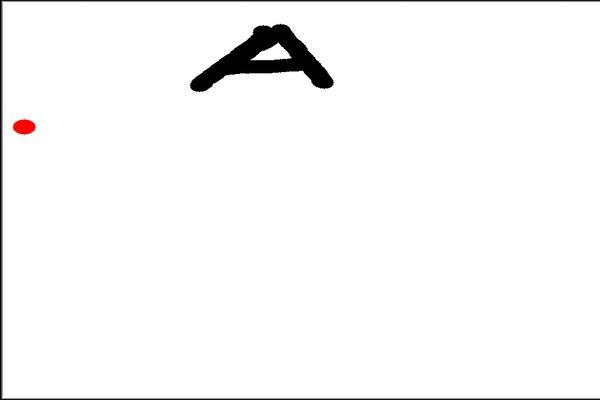A: (180, 13, 337, 102)
